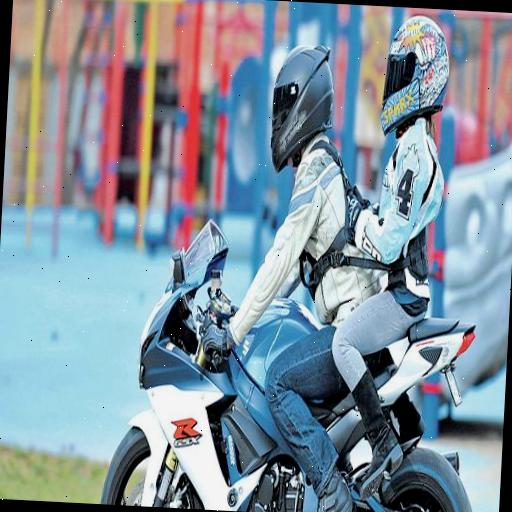helmet: (103, 9, 378, 512)
